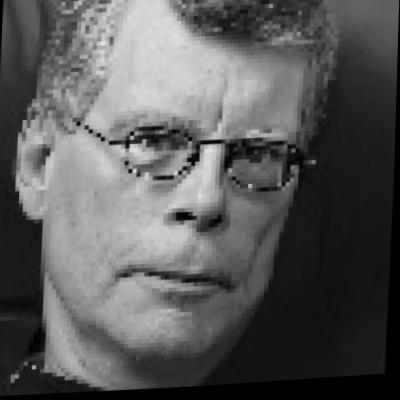angry: (38, 0, 314, 355)
